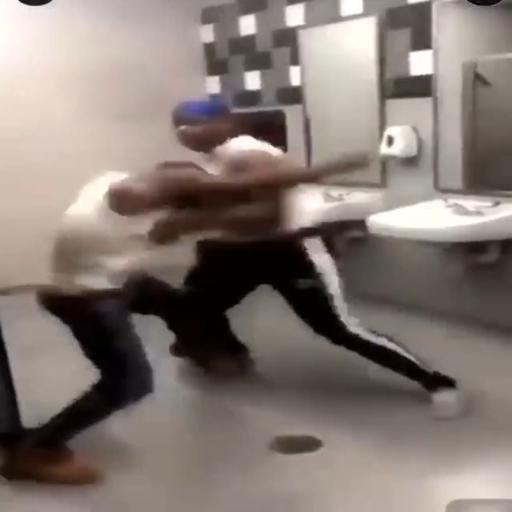violencia: (21, 92, 466, 475)
